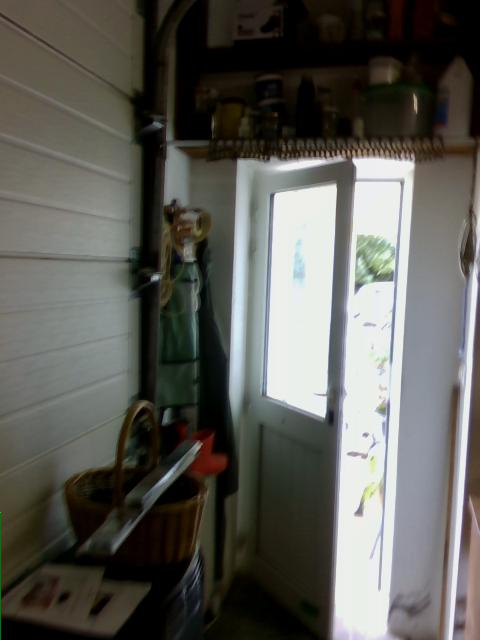semi_door: (239, 151, 413, 639)
